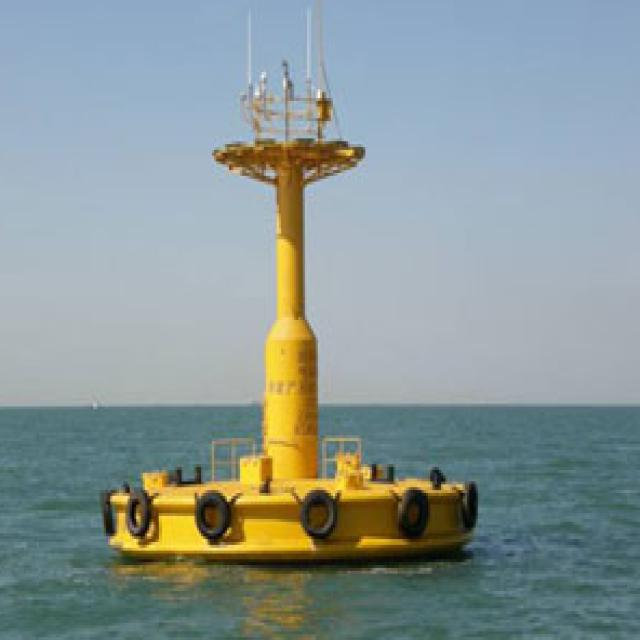buoy: (104, 52, 470, 571)
